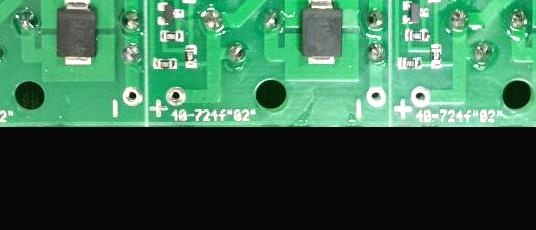chip-resistor: (396, 55, 423, 70), (403, 27, 430, 42), (152, 56, 179, 70), (158, 28, 185, 42), (184, 42, 198, 68), (430, 42, 443, 69)
diode: (54, 0, 99, 66), (299, 0, 344, 65)
transistor: (155, 0, 186, 25), (401, 0, 430, 25)
